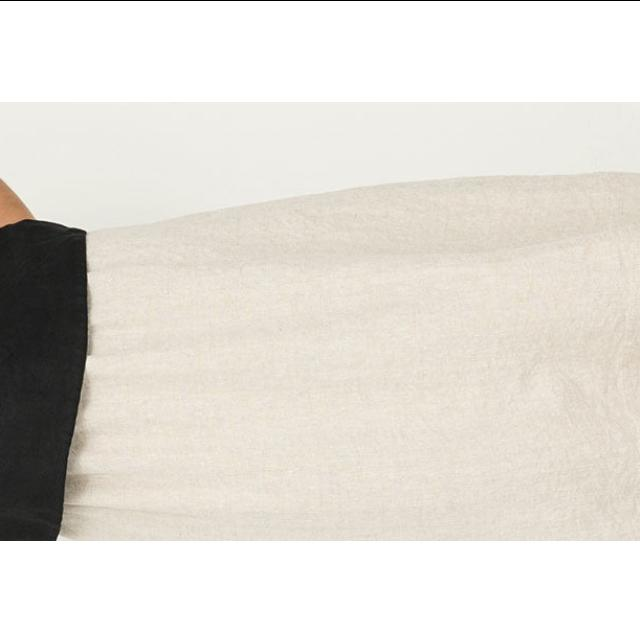linen: (0, 178, 640, 540)
